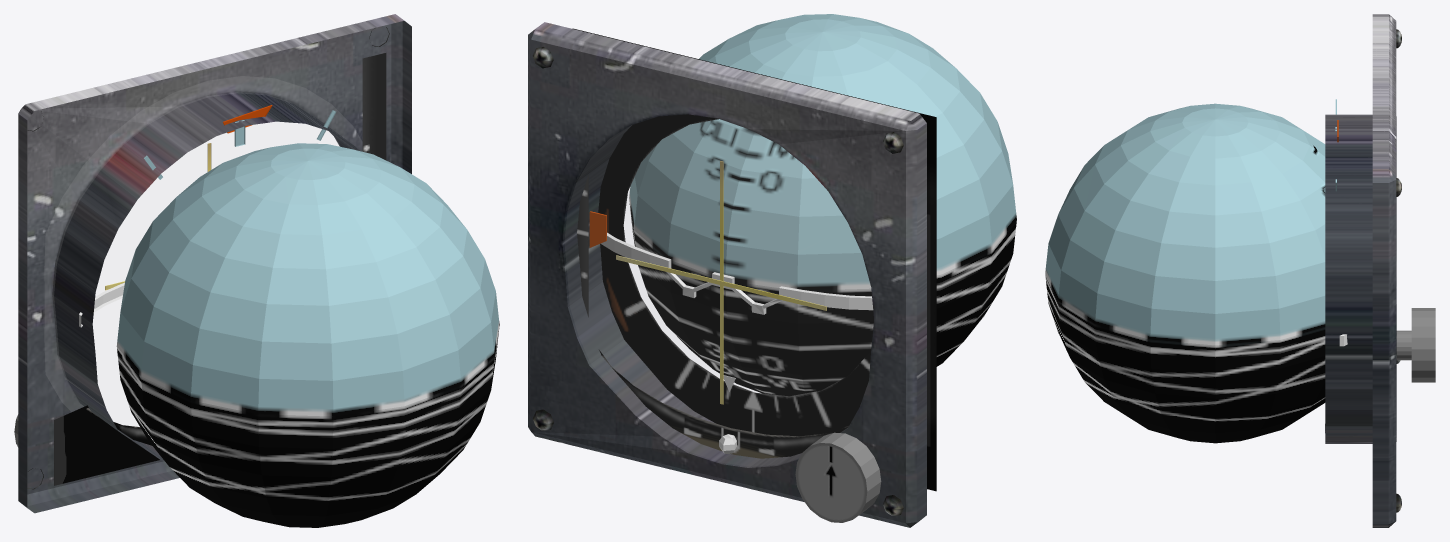
3 views of the same model, side by side, from view 1: azimuth 30°, elevation 25°; view 2: azimuth 150°, elevation 25°; view 3: azimuth 270°, elevation 25° (orthographic). The views are drawn at different scales.
Parts seen in each view (by area): view 1: AttitudeBall, Fond, vitre, ring-slip, gs-scale; view 2: Fond, AttitudeBall, vitre, ai-ring, bouton, ring-slip, barre, visses, gs-scale, nav-yaw-steering-bar, nav-pitch-steering-ba, ils-flag; view 3: AttitudeBall, Fond, bouton.
Boxes of the visible parts, x1,y1,x2,y2 form: AttitudeBall: [116, 143, 499, 527]; Fond: [18, 14, 411, 513]; vitre: [45, 76, 361, 426]; ring-slip: [54, 405, 159, 485]; gs-scale: [362, 53, 386, 160]; Fond: [528, 22, 926, 527]; AttitudeBall: [629, 14, 1016, 396]; vitre: [565, 115, 873, 465]; ai-ring: [572, 28, 936, 491]; bouton: [795, 432, 881, 522]; ring-slip: [599, 350, 848, 458]; barre: [600, 232, 873, 314]; visses: [533, 47, 903, 516]; gs-scale: [577, 175, 588, 317]; nav-yaw-steering-bar: [616, 255, 826, 310]; nav-pitch-steering-ba: [720, 161, 723, 404]; ils-flag: [589, 211, 606, 247]; AttitudeBall: [1045, 103, 1325, 443]; Fond: [1325, 14, 1396, 527]; bouton: [1396, 308, 1435, 382].
Bounding box in the file's own units: 0.1096 × 0.1096 × 0.1093.
2 materials, 1 textured.
